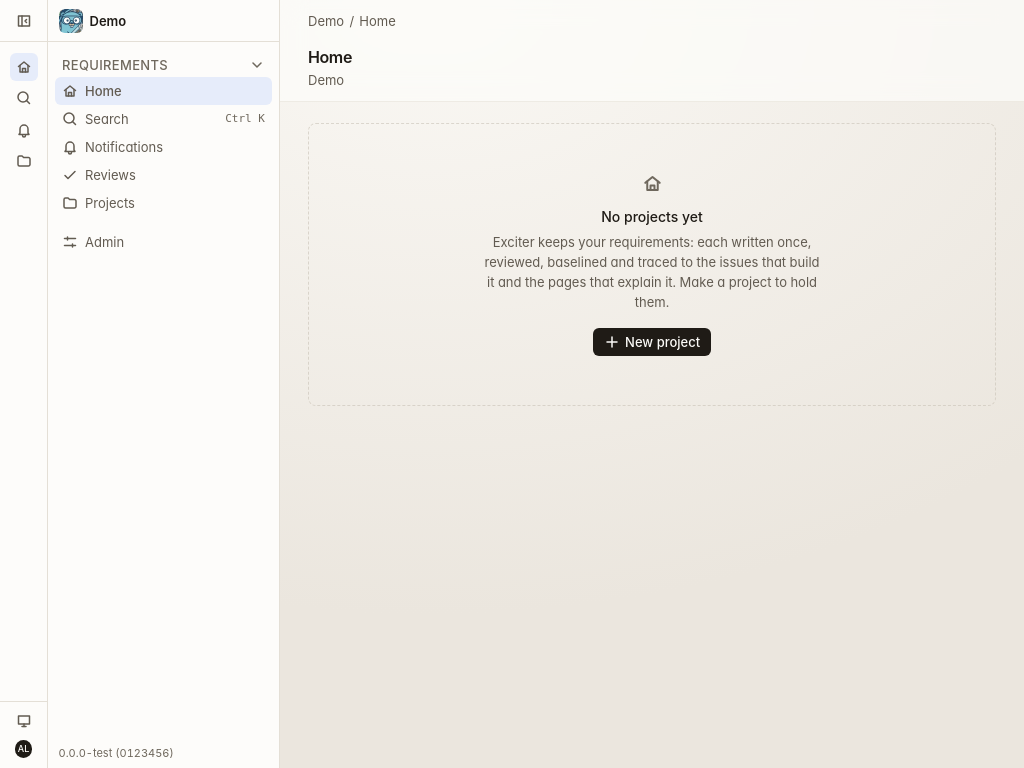
Test: the shell › folds the sidebar to the rail and remembers it
Click the button named "Collapse the sidebar" at (24, 21), box [11,8,36,33]
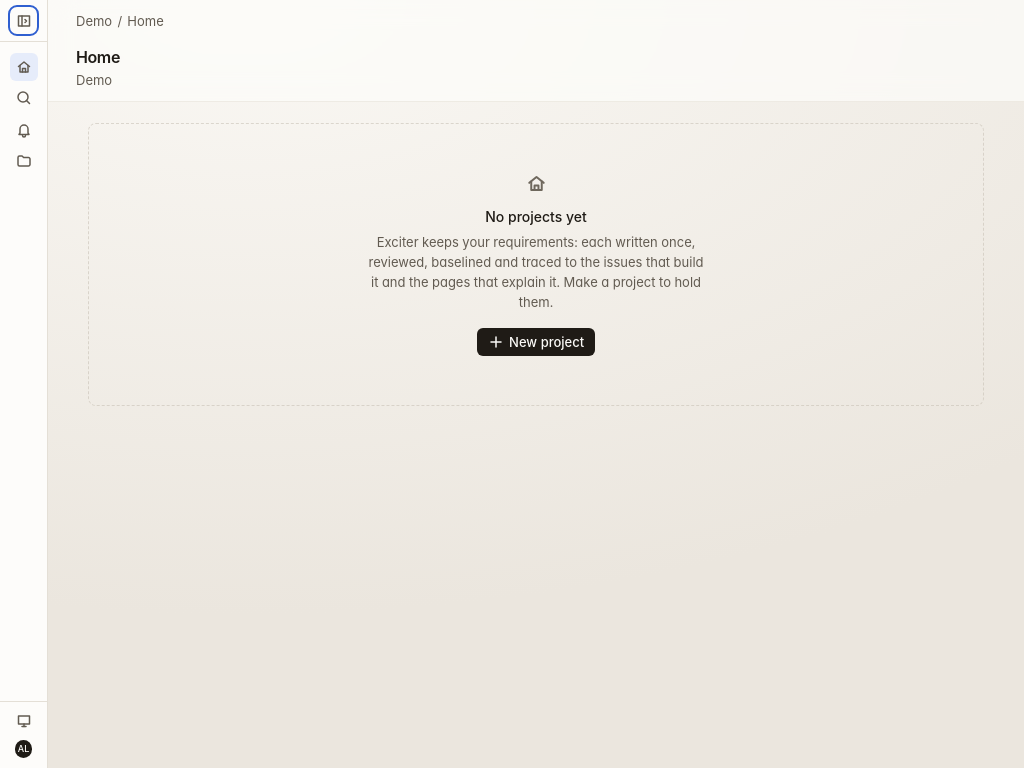
Expected: the element showing "AL" is shown, [0,0,48,767]
Click the button named "Expand the sidebar" at (24, 21), box [11,8,36,33]
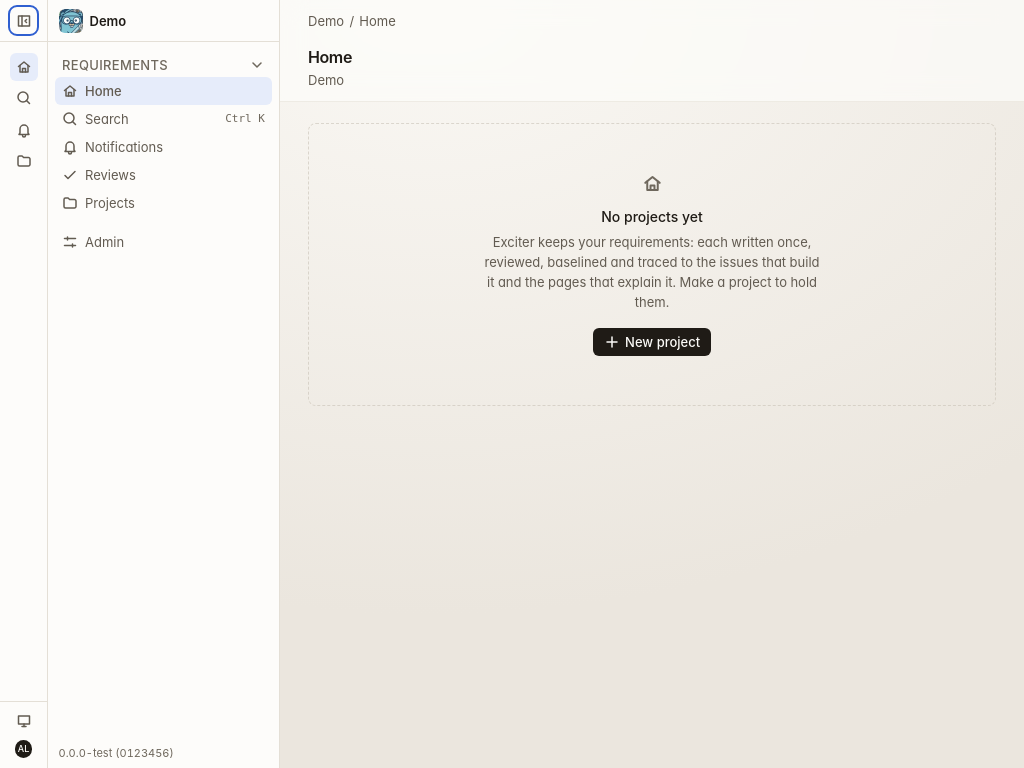
Now the navigation bar named "Where you are" is shown, box [48,0,280,767]
